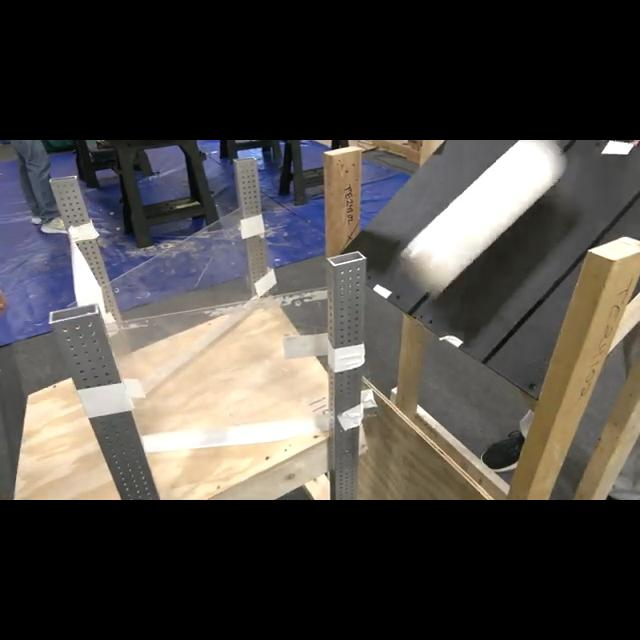CORAL: (397, 140, 568, 300)
